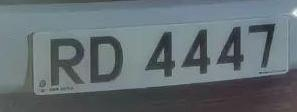4: (141, 25, 181, 84), (177, 23, 214, 82), (214, 20, 249, 75)
7: (246, 17, 281, 73)
D: (85, 31, 129, 88)
R: (44, 28, 89, 90)
